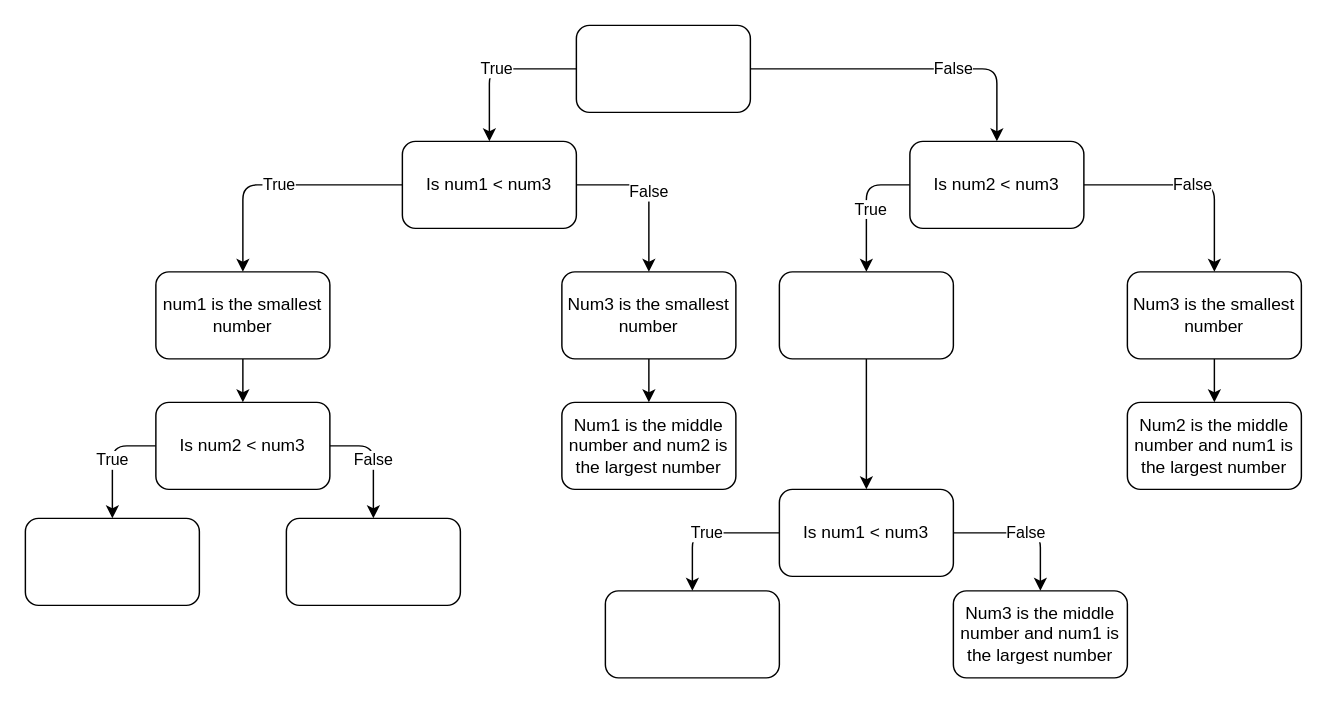
This 1327x703 diagram has some shape labels left out. The shapes that lost their labels are listed below. From the top down, each one's centre as x and y in pixels, then its label:
point 662,68: Is num1 < num2
point 865,314: Num2 is the smallest number
point 111,561: Num3 is the largest number and num2 is the middle number
point 372,561: Num2 is the largest number and num3 is them middle number
point 691,633: Num1 is the middle number and num3 is the largest number
